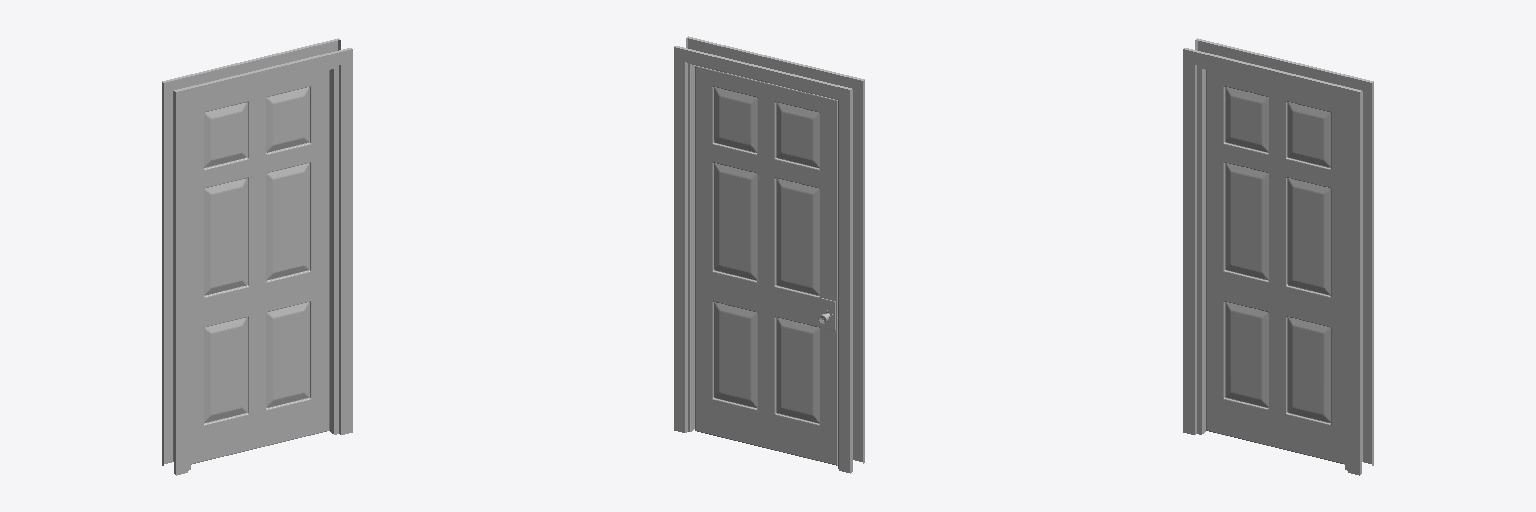
Rendered from porta.obj.
3 views of the same model, side by side, from view 1: azimuth 30°, elevation 25°; view 2: azimuth 150°, elevation 25°; view 3: azimuth 330°, elevation 25° (orthographic).
Parts seen in each view (by area): view 1: basic_door_basic_door.001; view 2: basic_door_basic_door.001; view 3: basic_door_basic_door.001.
Part boxes in pixels (x1,y1,x2,y2): basic_door_basic_door.001: (162, 38, 352, 475); basic_door_basic_door.001: (674, 36, 864, 473); basic_door_basic_door.001: (1183, 38, 1373, 475).
Size of the model in its own units: 7.2 by 14.93 by 1.22.